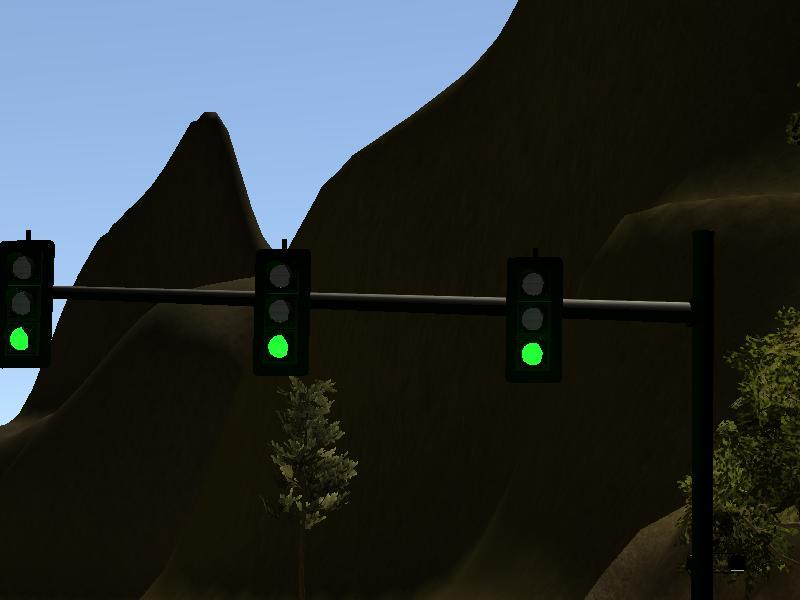Green: (1, 243, 51, 367), (255, 251, 304, 369), (510, 261, 560, 374)
